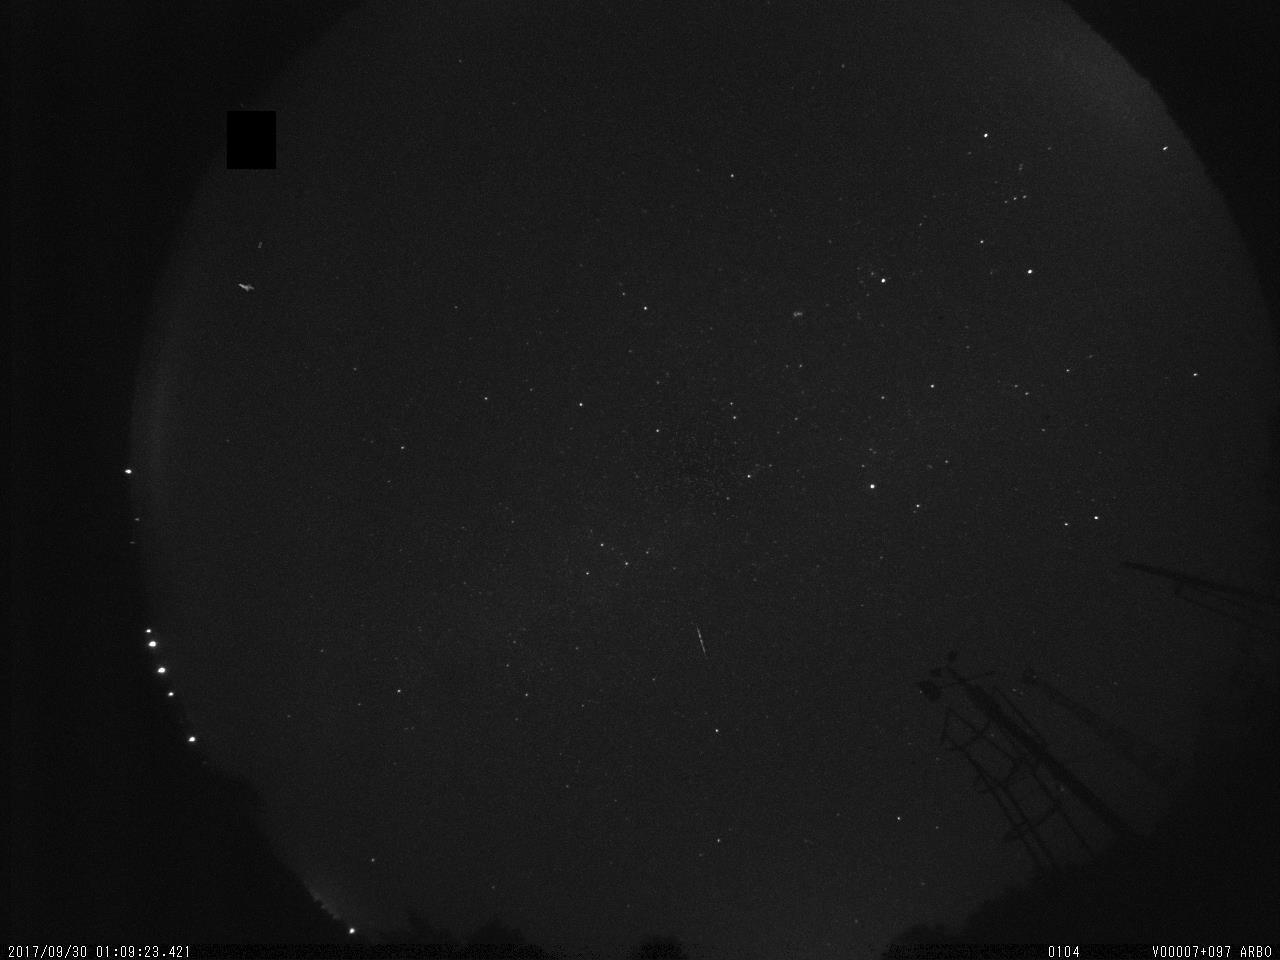TLE: (231, 229, 274, 301)
